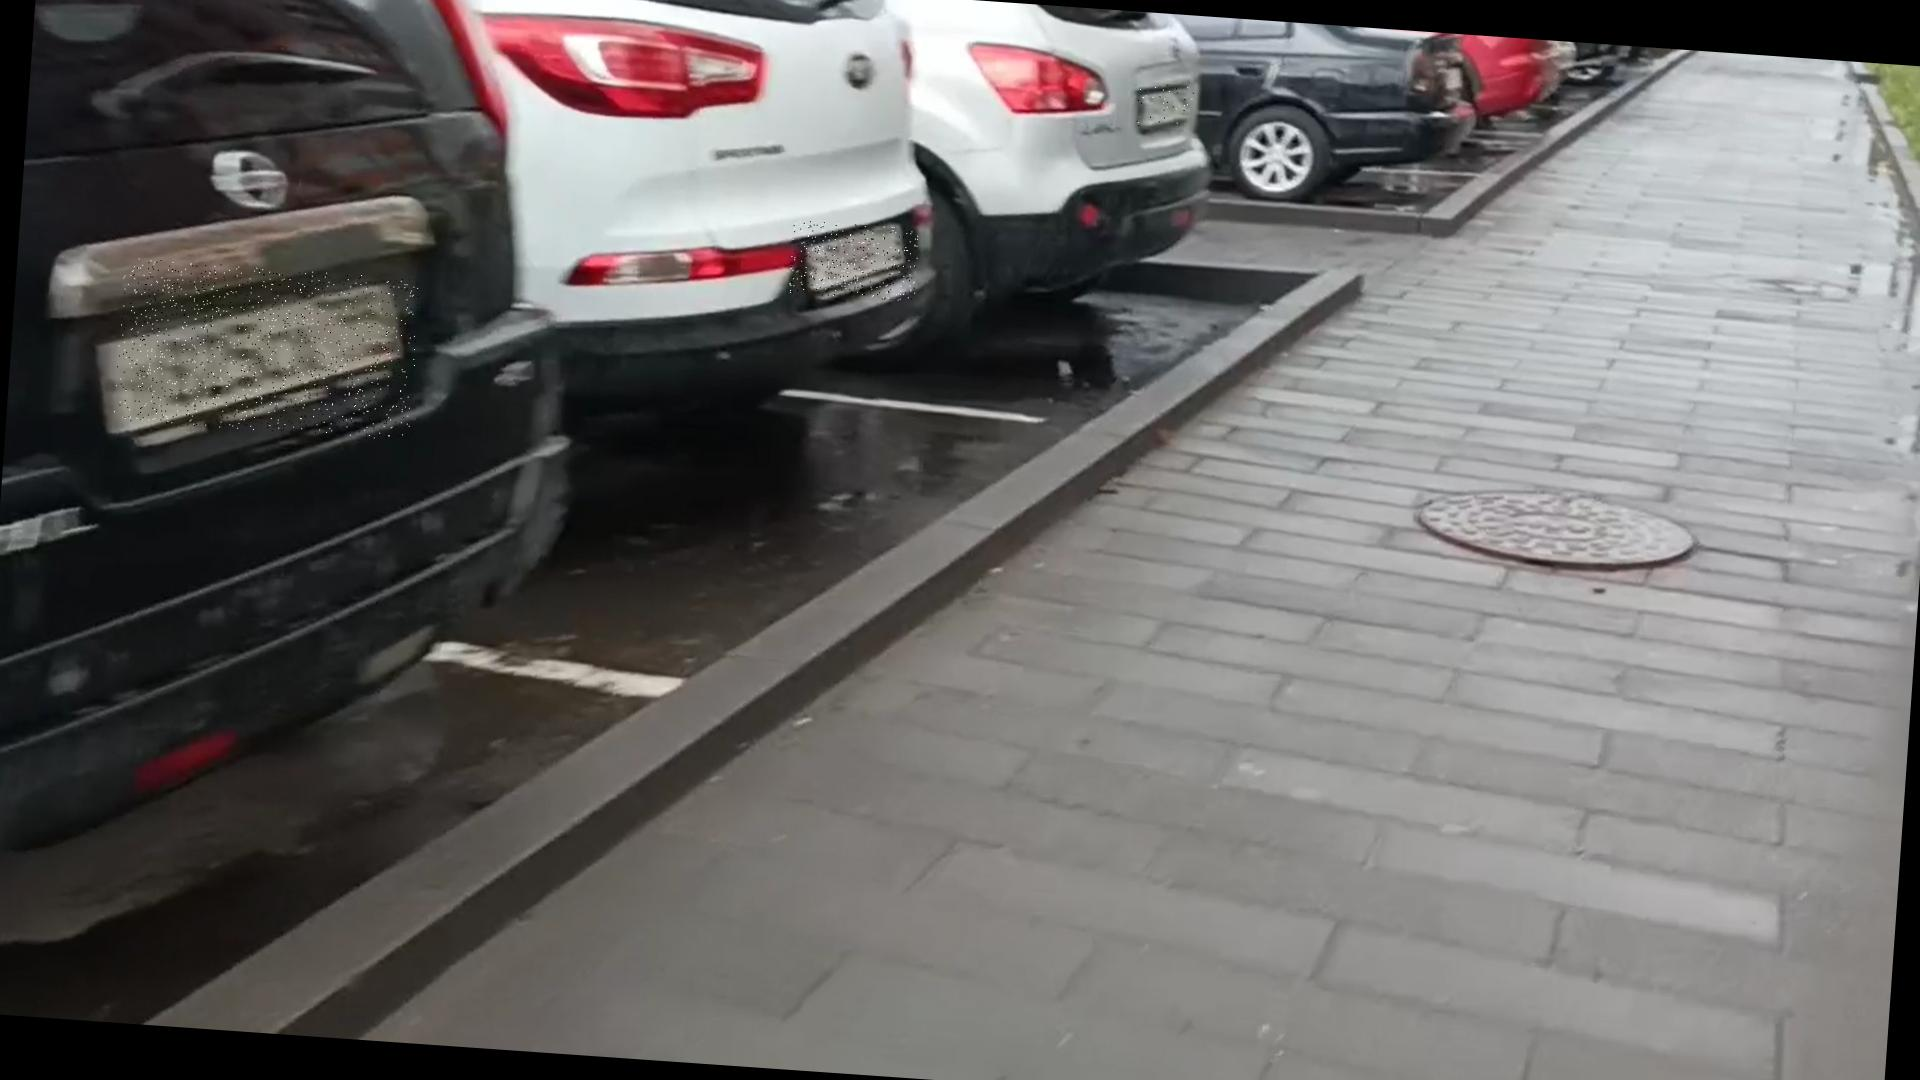plate: (115, 258, 423, 442), (789, 222, 921, 303), (1138, 83, 1196, 132)
